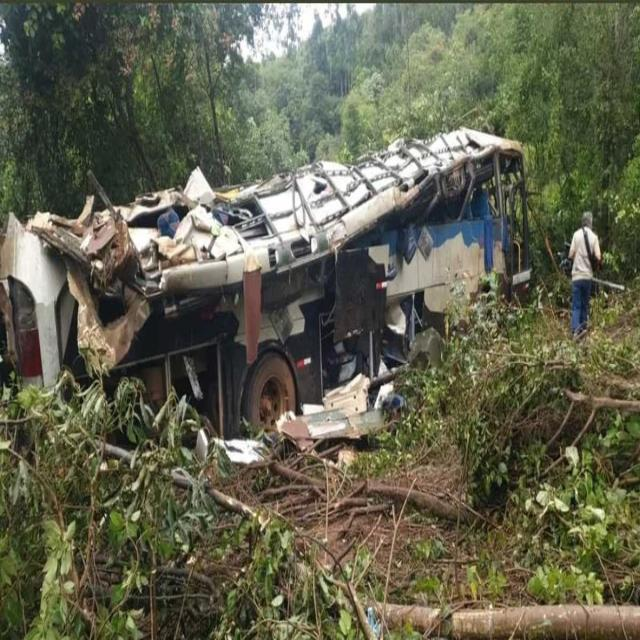Accident: (0, 120, 538, 462)
